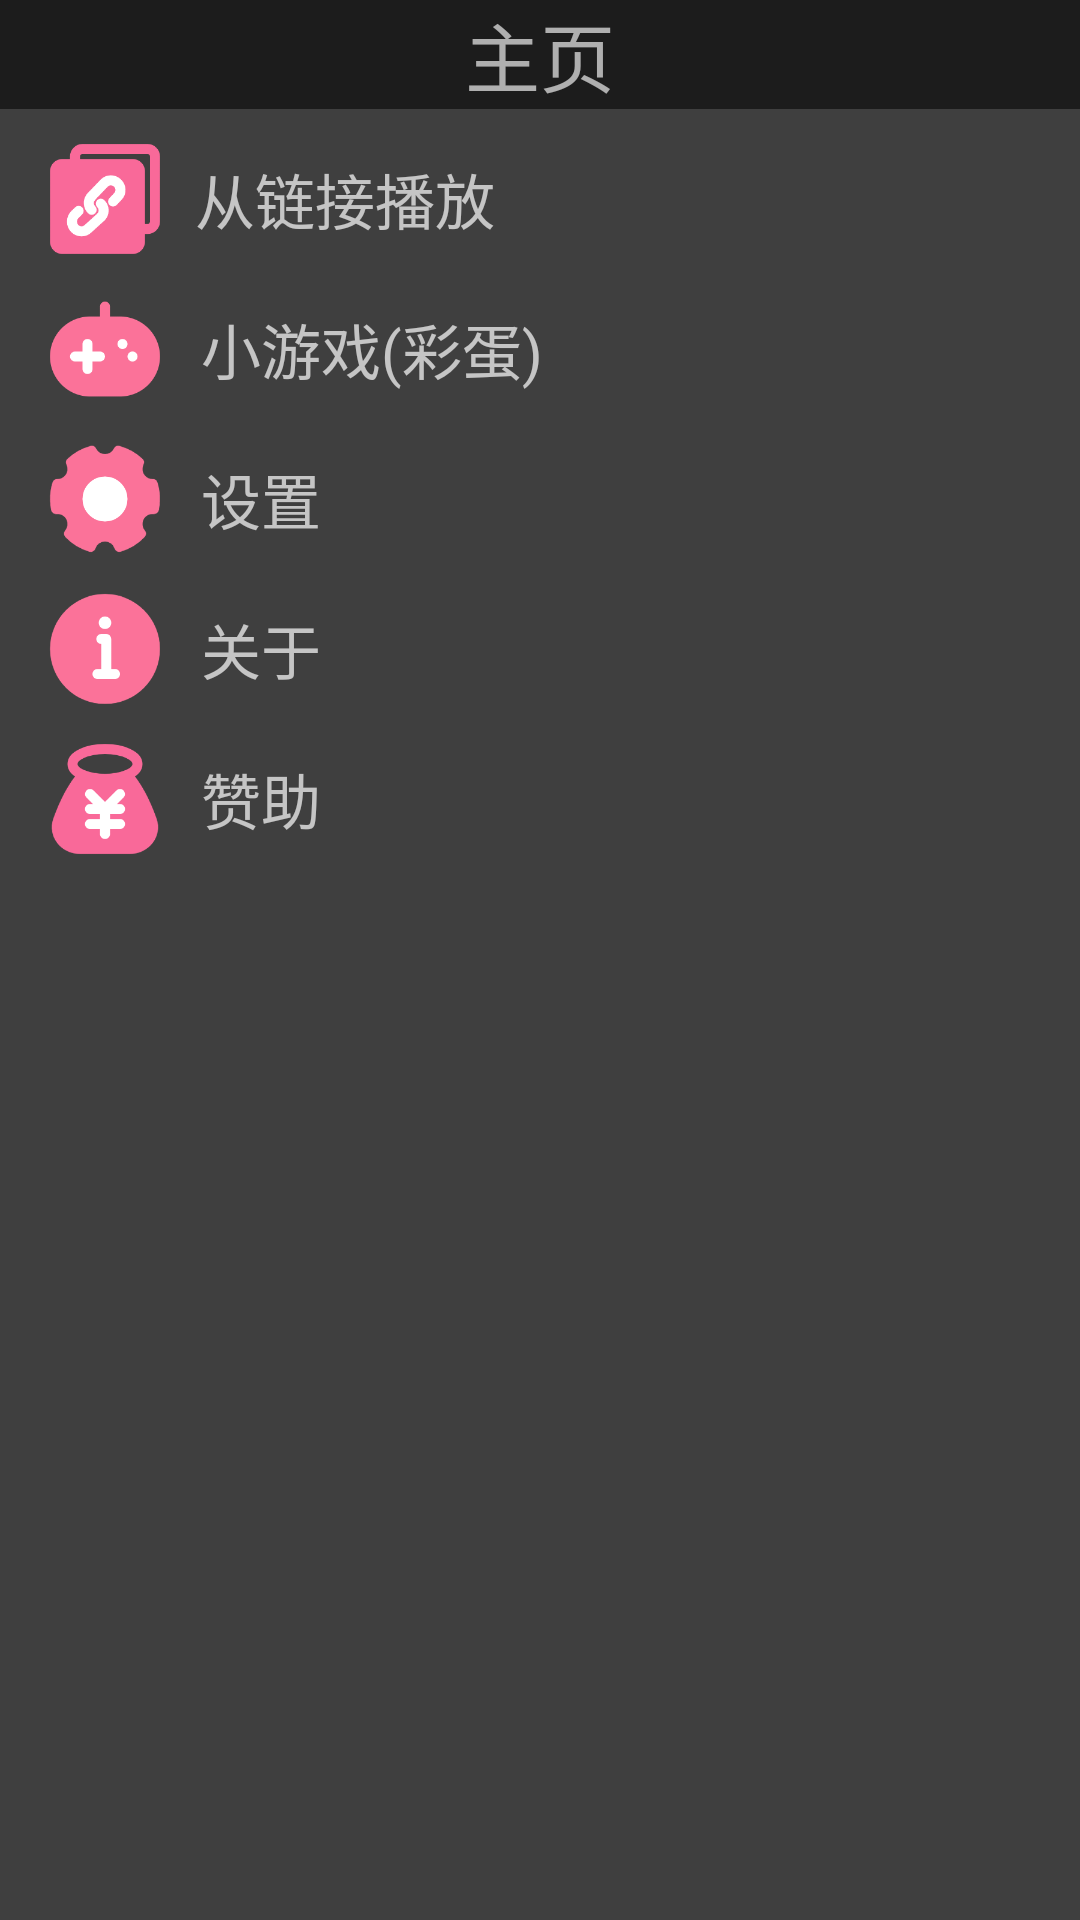

Icons on this 1080px×1920px Android screen, each with the point to tap as point (x, y):
about: point (105, 649)
from url: point (105, 199)
game: point (105, 349)
meney: point (105, 799)
setting: point (105, 498)
